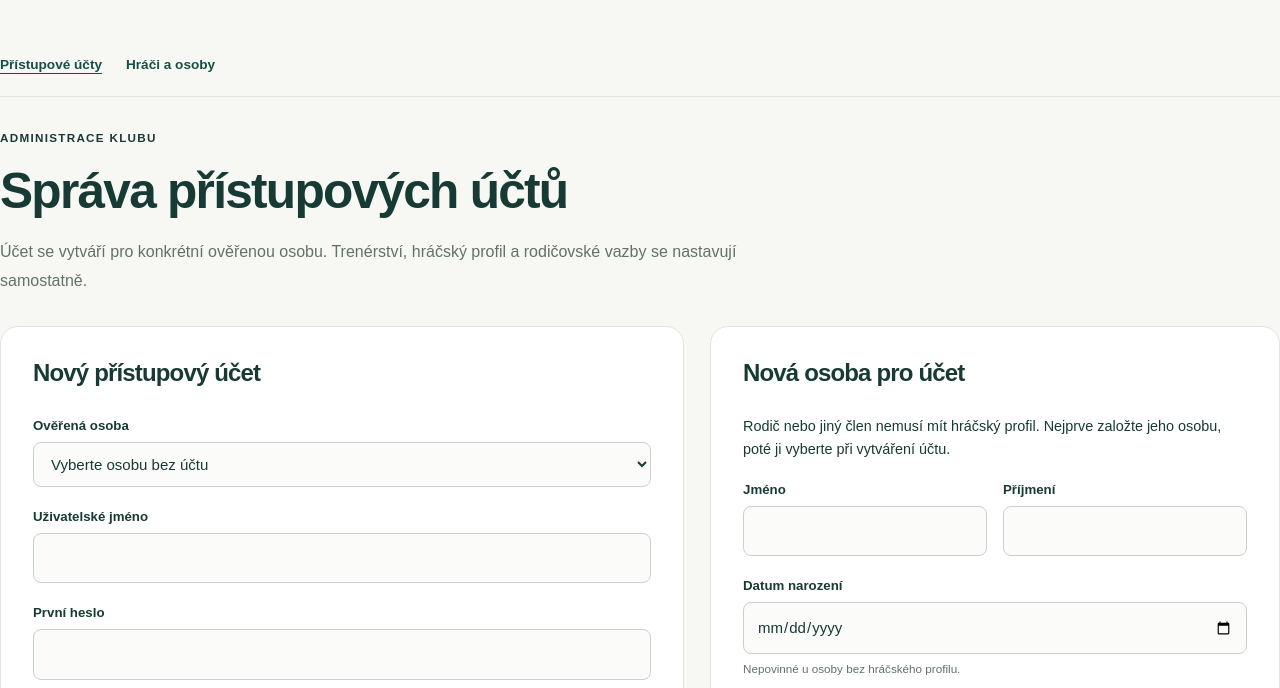
Test: P3 formuláře a omezení › admin založí dětský účet na vybrané osobě bez role/enabled a vymaže heslo i při konfliktu
This screenshot has width=1280, height=688.
Select "Eliška Testovací · 2013-01-01" in the dropdown labelled "Ověřená osoba" at x=342, y=464, box [33,442,651,487]
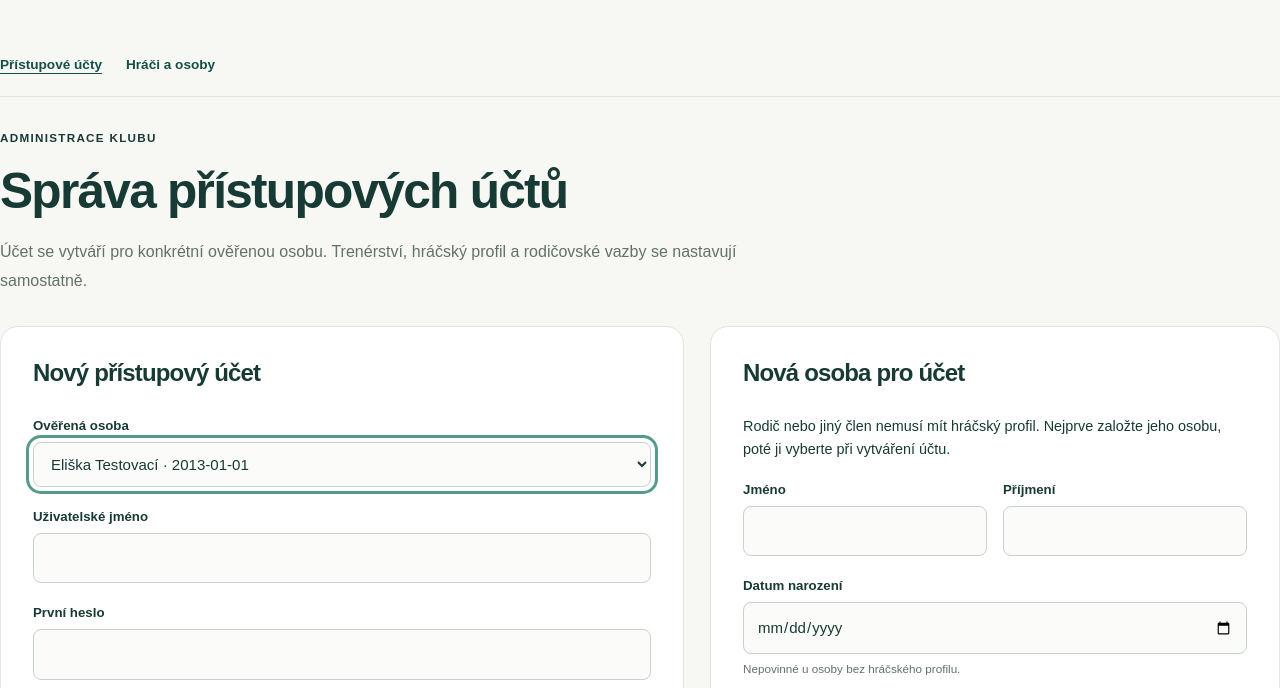
Type "child-test" into the field labelled "Uživatelské jméno".
click(342, 558); type("child-test")  # box [33,533,651,583]
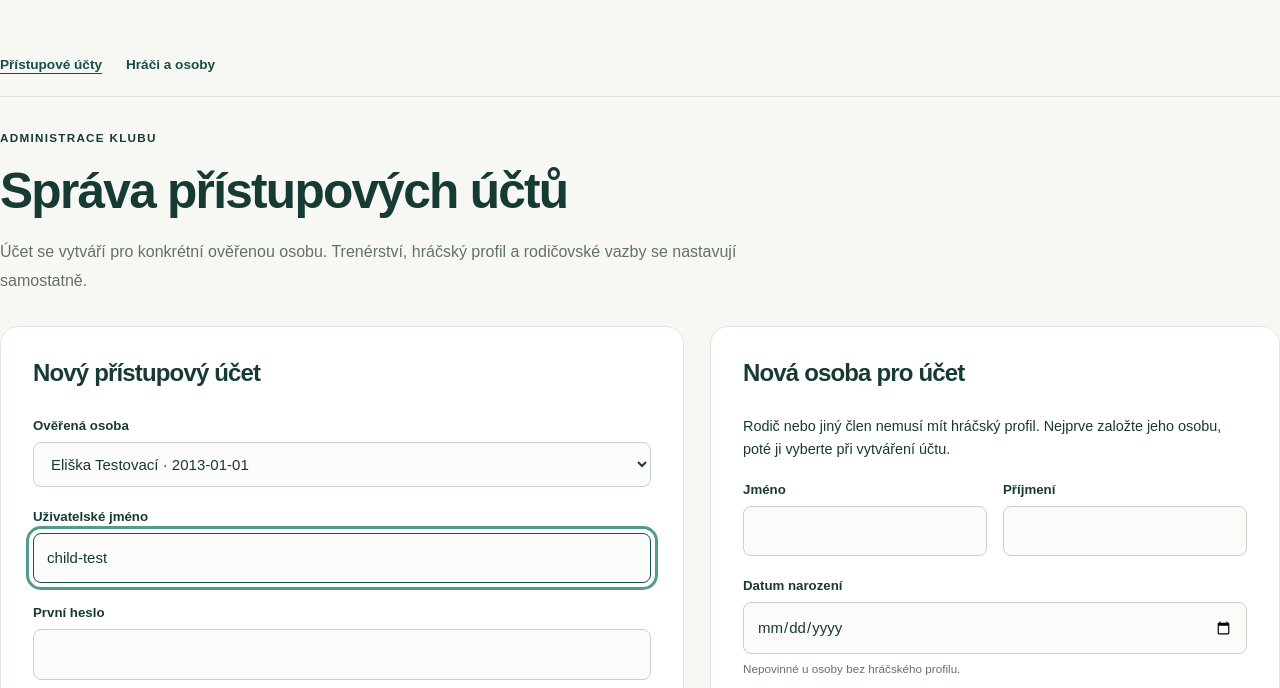
Type "test-password" into the password field labelled "První heslo".
click(342, 654); type("test-password")  # box [33,630,651,680]
(page scrolled)
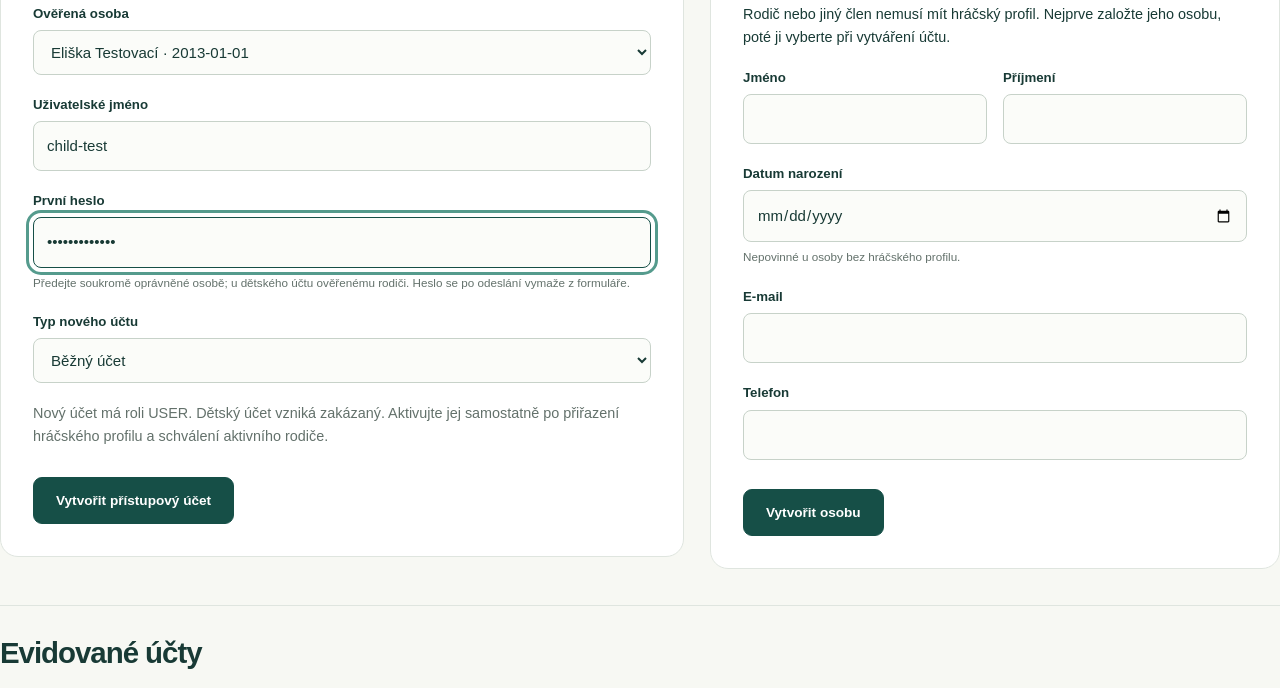
Select "Dětský účet" in the dropdown labelled "Typ nového účtu" at x=342, y=361, box [33,338,651,383]
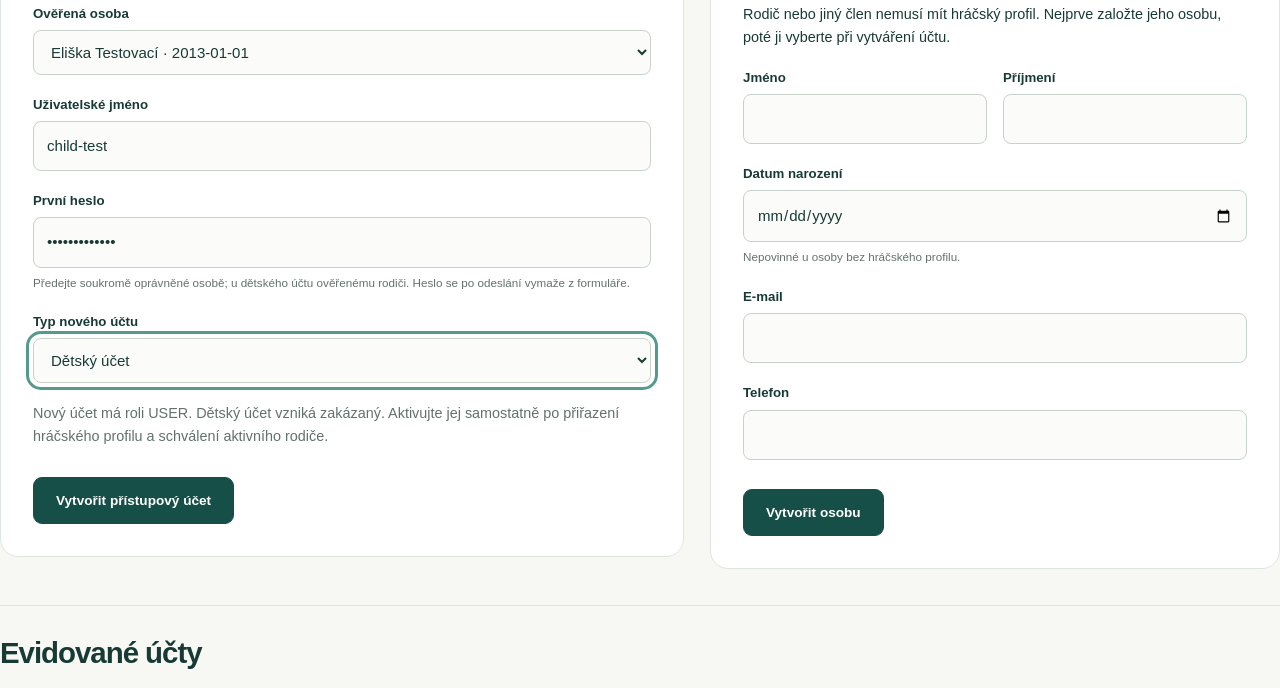
Click the button "Vytvořit přístupový účet".
click(134, 500)  # box [33,476,234,524]
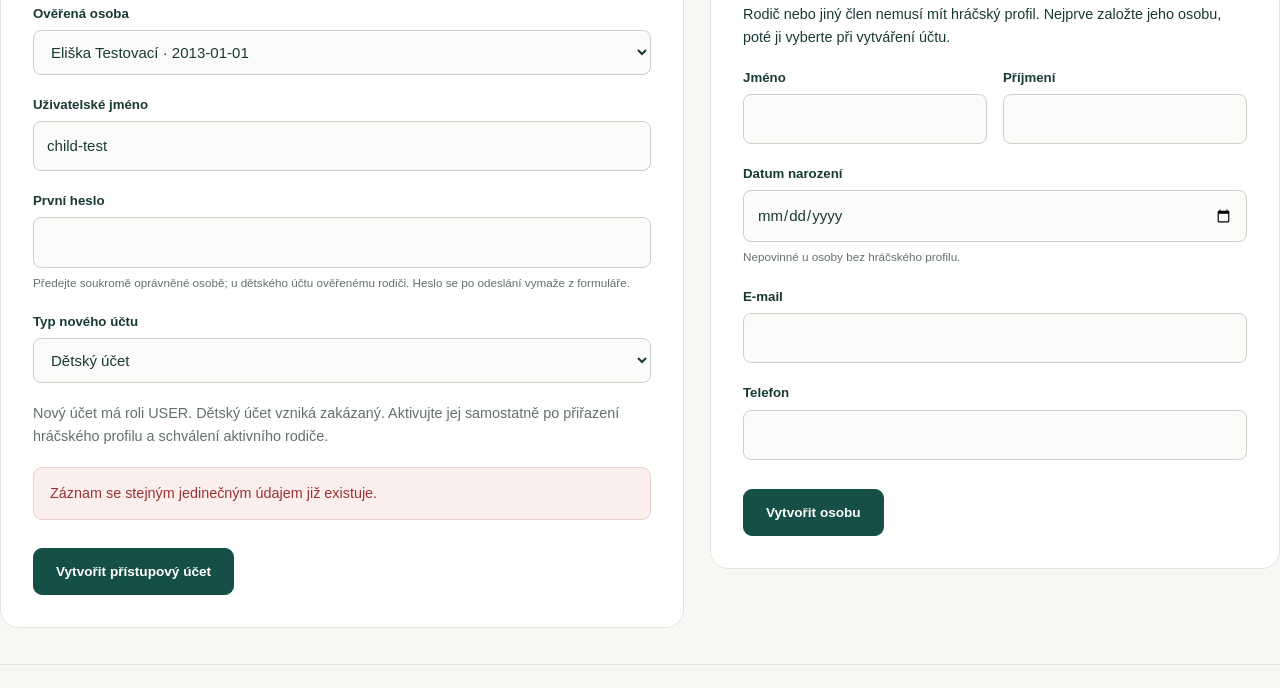
Expected: the message shows "jedinečným", [50,484,377,500]
Expected: the password field labelled "První heslo" is empty, [33,218,651,268]
